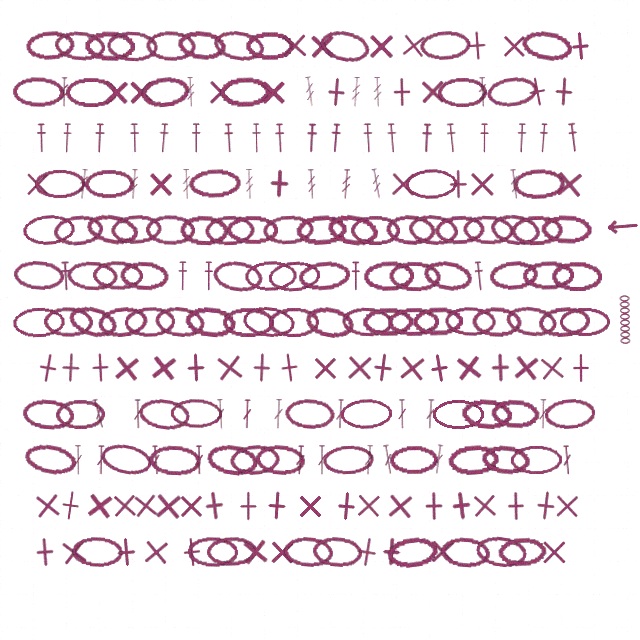chain: (65, 301, 121, 343), (317, 26, 373, 66), (84, 210, 140, 249), (22, 440, 78, 479), (98, 440, 154, 479), (211, 27, 267, 65), (519, 27, 574, 65), (421, 257, 475, 295), (303, 303, 357, 341), (325, 211, 380, 248), (488, 211, 543, 248), (474, 533, 529, 570), (504, 303, 558, 340), (205, 441, 259, 478), (137, 396, 192, 432), (485, 74, 539, 110), (211, 258, 265, 294), (385, 534, 439, 570), (241, 304, 296, 339), (96, 304, 150, 339), (153, 304, 207, 339), (183, 304, 237, 339), (267, 259, 322, 293), (139, 74, 192, 109), (297, 259, 351, 293), (21, 397, 75, 431), (176, 28, 228, 63), (407, 212, 459, 247), (53, 29, 106, 63), (439, 535, 492, 569), (12, 259, 66, 292), (537, 305, 591, 338), (52, 213, 104, 247), (480, 443, 532, 477), (419, 29, 472, 62), (22, 213, 75, 246), (110, 213, 163, 246), (460, 397, 513, 430), (543, 397, 596, 430), (254, 443, 307, 476), (282, 535, 335, 568), (12, 306, 66, 338), (295, 213, 347, 246), (385, 213, 437, 246), (488, 259, 540, 292), (284, 397, 336, 430), (447, 443, 499, 476), (311, 535, 363, 568), (106, 30, 159, 62), (510, 214, 563, 246), (66, 260, 119, 292), (388, 260, 441, 292), (148, 444, 201, 476), (25, 29, 76, 62), (229, 443, 280, 476), (204, 214, 256, 246), (262, 214, 314, 246), (434, 214, 486, 246), (462, 214, 514, 246), (341, 306, 393, 338), (322, 444, 374, 476), (188, 168, 241, 199), (405, 168, 458, 199), (512, 168, 565, 199), (244, 260, 297, 291), (444, 306, 497, 337), (340, 398, 393, 429), (179, 214, 230, 246), (119, 260, 170, 292), (490, 398, 541, 430), (497, 536, 548, 568), (12, 76, 64, 107), (540, 214, 592, 245), (522, 260, 574, 291), (124, 306, 176, 337), (471, 306, 523, 337), (170, 398, 222, 429), (71, 536, 123, 567), (187, 536, 239, 567), (432, 399, 485, 429), (84, 30, 135, 61), (145, 30, 196, 61), (219, 76, 270, 107), (92, 260, 143, 291), (363, 260, 414, 291), (43, 306, 94, 337), (412, 306, 463, 337), (206, 536, 257, 567), (65, 77, 117, 107), (226, 215, 278, 245), (222, 307, 274, 337), (268, 307, 320, 337), (387, 307, 439, 337), (559, 307, 611, 337), (510, 445, 562, 475), (145, 214, 195, 245), (437, 77, 488, 107), (34, 169, 85, 199), (84, 169, 135, 199), (551, 261, 602, 291), (362, 307, 413, 337), (245, 31, 295, 61), (350, 215, 400, 245), (55, 399, 105, 429), (389, 445, 439, 475)
double: (90, 398, 107, 429), (381, 444, 395, 475), (432, 444, 445, 475), (150, 445, 162, 475), (294, 445, 306, 475), (363, 445, 375, 475), (561, 445, 573, 475), (215, 399, 226, 429), (273, 399, 284, 429), (335, 399, 346, 429), (425, 399, 436, 429), (133, 399, 143, 429), (242, 399, 252, 429), (397, 399, 407, 429), (538, 399, 548, 429), (73, 445, 83, 475), (96, 445, 106, 475), (194, 445, 204, 475), (317, 445, 327, 475)
enseble_chain: (619, 295, 631, 345)
half_double: (566, 122, 580, 153), (385, 123, 399, 153), (472, 261, 486, 291), (93, 123, 106, 153), (157, 123, 170, 153), (305, 123, 318, 153), (329, 123, 342, 153), (420, 123, 433, 153), (445, 123, 458, 153), (515, 123, 528, 153), (537, 123, 550, 153), (59, 261, 72, 291), (61, 123, 73, 153), (190, 123, 202, 153), (223, 123, 235, 153), (274, 123, 286, 153), (362, 123, 374, 153), (36, 123, 47, 153), (129, 123, 140, 153), (251, 123, 262, 153), (479, 123, 490, 153), (177, 261, 188, 291), (203, 261, 214, 291), (350, 261, 361, 291)
noise: (605, 219, 638, 234)
single: (520, 74, 555, 109), (31, 351, 65, 385), (422, 351, 456, 385), (57, 535, 91, 569), (350, 535, 384, 569), (397, 29, 430, 62), (147, 351, 180, 384), (213, 351, 246, 384), (273, 351, 306, 384), (366, 351, 399, 384), (452, 351, 485, 384), (31, 489, 64, 522), (54, 489, 87, 522), (83, 489, 116, 522), (129, 489, 162, 522), (198, 489, 231, 522), (445, 489, 478, 522), (529, 489, 562, 522), (510, 351, 542, 384), (239, 535, 271, 568), (564, 30, 596, 62), (320, 76, 352, 108), (553, 168, 585, 200), (396, 352, 428, 384), (536, 352, 568, 384), (152, 490, 184, 522), (330, 490, 362, 522), (384, 490, 416, 522), (29, 536, 61, 568), (110, 536, 142, 568), (140, 536, 172, 568), (176, 536, 208, 568), (111, 352, 142, 384), (279, 30, 310, 61), (462, 30, 493, 61), (417, 76, 448, 107), (548, 76, 579, 107), (264, 168, 295, 199), (55, 352, 86, 383), (85, 352, 116, 383), (180, 352, 211, 383), (246, 352, 277, 383), (344, 352, 375, 383), (485, 352, 516, 383), (109, 490, 140, 521), (261, 490, 292, 521), (353, 490, 384, 521), (469, 490, 500, 521), (427, 536, 458, 567), (376, 536, 406, 567), (307, 31, 337, 61), (366, 31, 396, 61), (499, 31, 529, 61), (101, 77, 131, 107), (126, 77, 156, 107), (206, 77, 236, 107), (258, 77, 288, 107), (387, 77, 417, 107), (388, 169, 418, 199), (443, 169, 473, 199), (467, 169, 497, 199), (310, 353, 340, 383), (566, 353, 596, 383), (176, 491, 206, 521), (233, 491, 263, 521), (295, 491, 325, 521), (419, 491, 449, 521), (501, 491, 531, 521), (552, 491, 582, 521), (267, 537, 297, 567), (539, 537, 569, 567), (23, 169, 52, 199), (146, 169, 175, 199)
treble: (369, 168, 384, 199), (303, 76, 317, 107), (77, 169, 90, 199), (508, 169, 521, 199), (350, 77, 362, 107), (128, 169, 140, 199), (340, 169, 352, 199), (185, 77, 196, 107), (372, 77, 383, 107), (477, 77, 488, 107), (181, 169, 192, 199), (244, 169, 255, 199), (306, 169, 317, 199), (59, 77, 69, 107)
